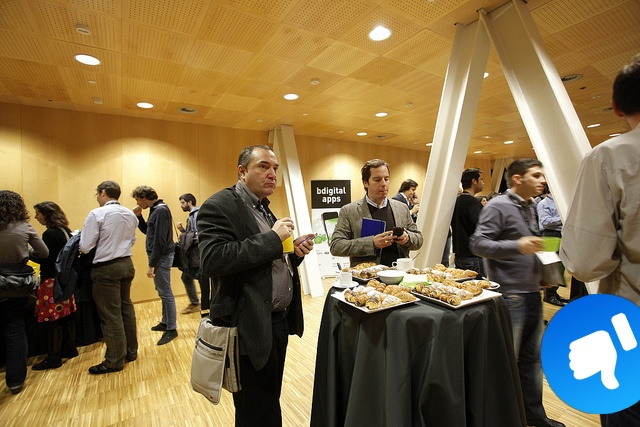like: (541, 294, 640, 414)
